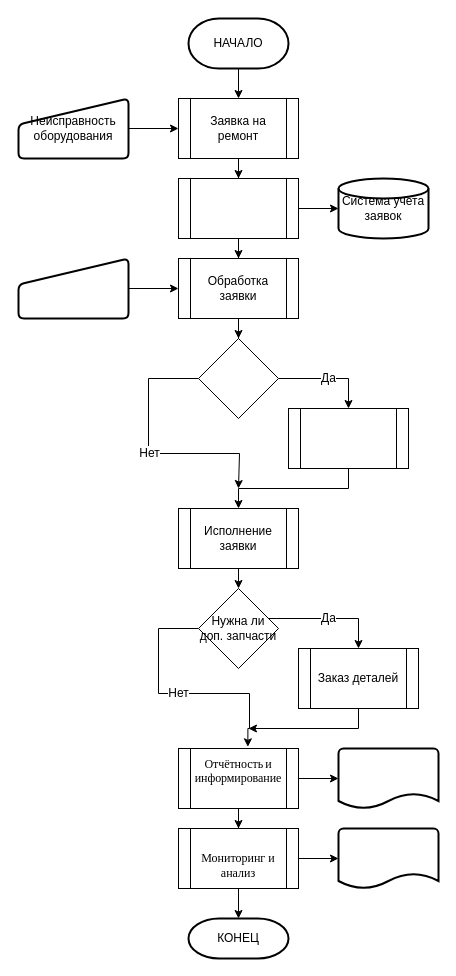
Some shapes in this 456 by 976 pixel diagram are drawn without their labels. The shapes that lost their labels are listed below. From the top down, each one's centre as x and y in pixels, then its label:
At (x=238, y=208): "Регистрация заявки".
At (x=73, y=288): "Данные об испольнителе".
At (x=238, y=378): "Нужна ли доп. инфо".
At (x=348, y=438): "Уточнение деталей".
At (x=388, y=778): "Отчет о проделанной работе".
At (x=388, y=858): "Контроль и анализ".
